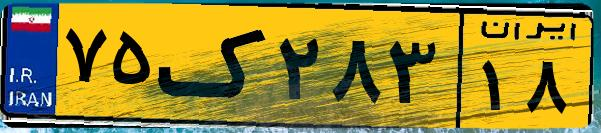1: (475, 38, 525, 113)
2: (270, 28, 330, 110)
3: (385, 28, 445, 110)
5: (110, 28, 158, 98)
7: (57, 26, 110, 100)
8: (330, 28, 385, 110), (525, 38, 570, 115)
ک: (158, 12, 270, 120)
